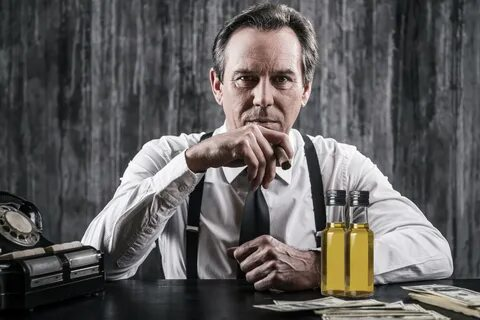awake: (128, 1, 391, 289)
